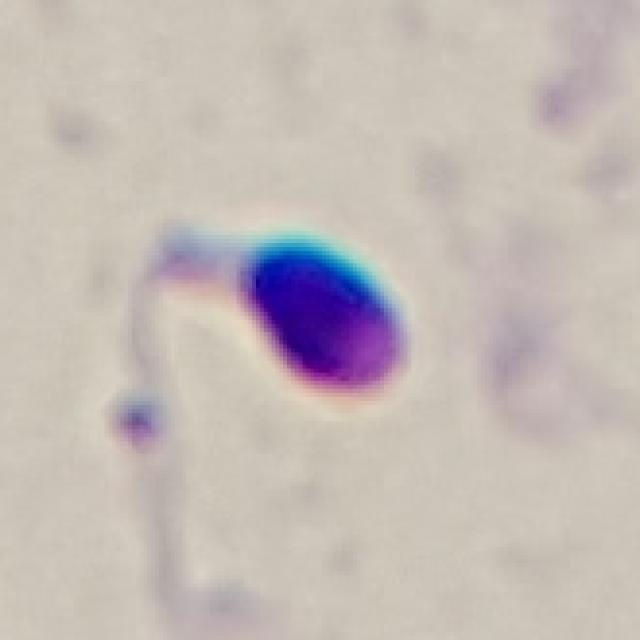normal sperm: (122, 230, 409, 397)
